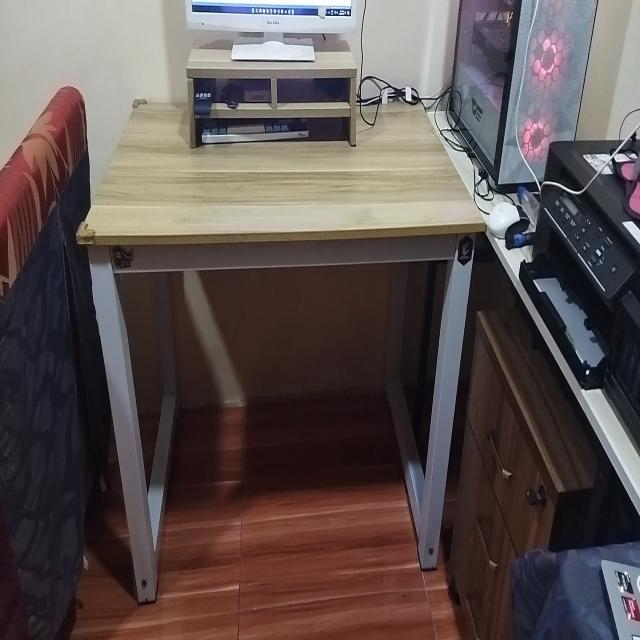table: (79, 89, 488, 599)
